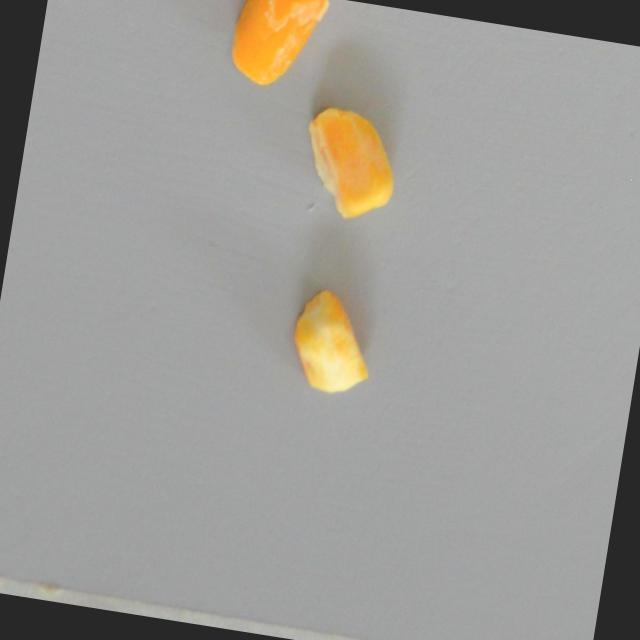estandar: (284, 284, 382, 400)
pelicula: (295, 101, 406, 224), (225, 0, 335, 95)
